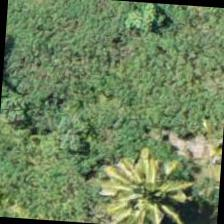Kelapa_Sawit: (79, 144, 175, 223)
